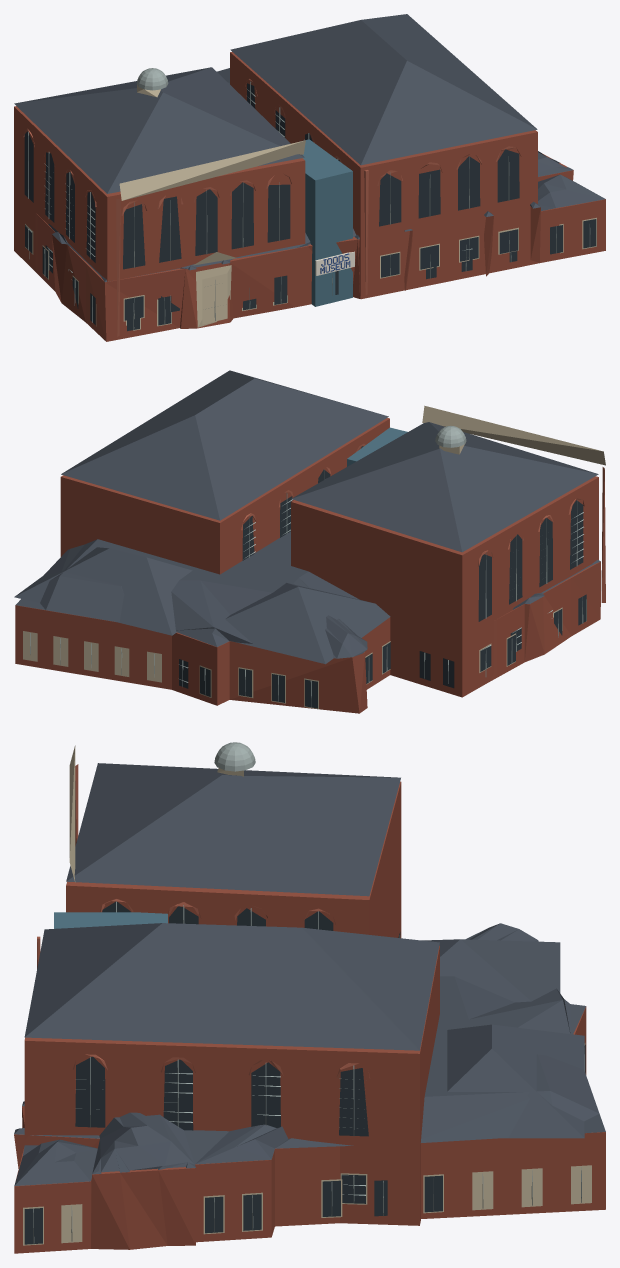
The model's file is jewish-museum.lod1.glb.
3 views of the same model, one above another, from view 1: azimuth 30°, elevation 25°; view 2: azimuth 150°, elevation 25°; view 3: azimuth 270°, elevation 25° (orthographic). The views are drawn at different scales.
Visible parts, largest first — view 1: jewish-museum; view 2: jewish-museum; view 3: jewish-museum.
Part boxes in pixels (x1,y1,x2,y2): jewish-museum: (14, 14, 605, 341); jewish-museum: (14, 370, 605, 713); jewish-museum: (14, 742, 605, 1253).
Size of the model in its own units: 49.66 by 21.2 by 41.5.
